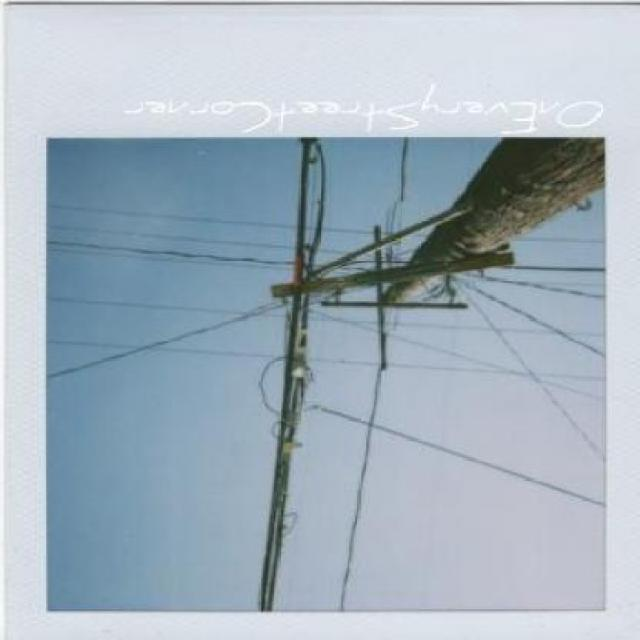pole: (229, 112, 605, 362)
